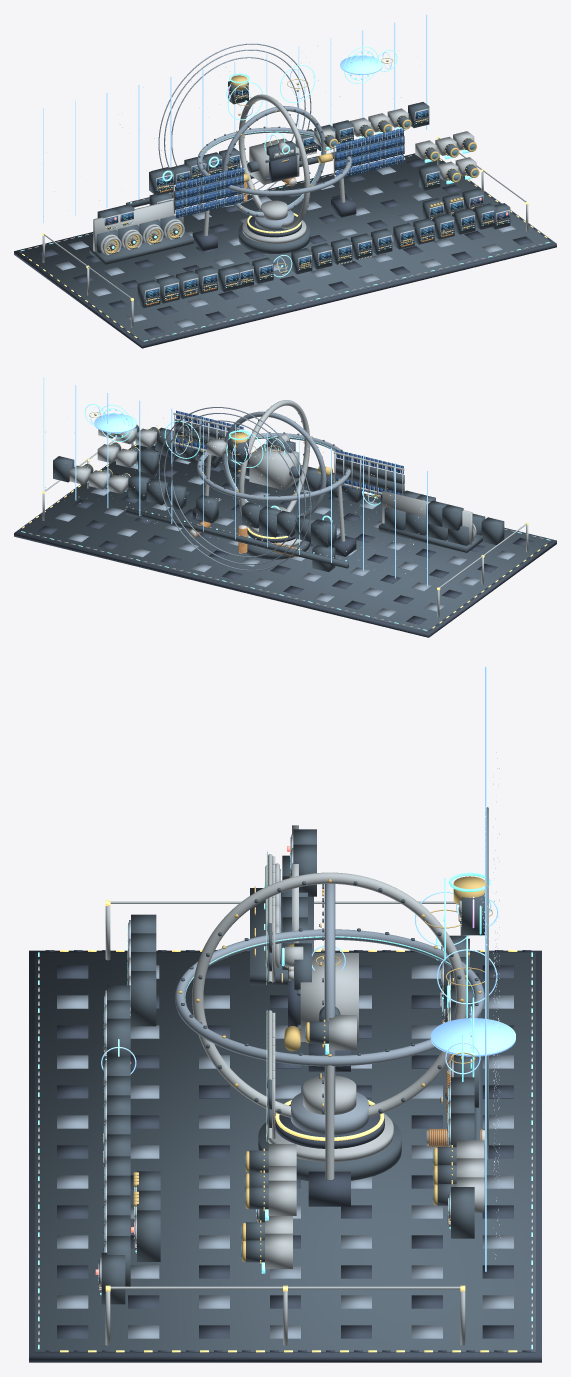
The model's file is Level84_Complete_ArtKit_Showcase.glb.
The picture shows the model from 3 angles, top to bottom: view 1: azimuth 30°, elevation 25°; view 2: azimuth 150°, elevation 25°; view 3: azimuth 270°, elevation 25°; orthographic projection. The views are drawn at different scales.
Visible parts, largest first — view 1: L84_CelestialDynamicsArenaBas_Part_0006, L84_CelestialDynamicsArenaBas_Part_0000, L84_PanoramicStarfieldSphere, L84_RotationalTestRigPedestal, L84_StarboardSolarArrayWing, L84_PortSolarArrayWing, L84_ReactionWheelClusterHousi_Part_0001, L84_ThreeAxisSpacecraftTestRi_Part_0005, L84_ThreeAxisSpacecraftTestRi_Part_0000, L84_CelestialDynamicsArenaBas_Part_0009, L84_ThreeAxisSpacecraftTestRi_Part_0010, L84_CelestialDynamicsArenaBas_Part_0007 (+19 smaller); view 2: L84_CelestialDynamicsArenaBas_Part_0006, L84_CelestialDynamicsArenaBas_Part_0000, L84_PanoramicStarfieldSphere, L84_PortSolarArrayWing, L84_SpacecraftAttitudeTestVeh_Part_0000, L84_OrbitalEphemerisDisplayRa_Part_0000, L84_StarboardSolarArrayWing, L84_ThreeAxisSpacecraftTestRi_Part_0000, L84_ThreeAxisSpacecraftTestRi_Part_0005, L84_CelestialDynamicsArenaBas_Part_0007, L84_ThreeAxisSpacecraftTestRi_Part_0010, L84_CelestialDynamicsArenaBas_Part_0009 (+39 smaller); view 3: L84_CelestialDynamicsArenaBas_Part_0006, L84_CelestialDynamicsArenaBas_Part_0000, L84_RotationalTestRigPedestal, L84_ThreeAxisSpacecraftTestRi_Part_0005, L84_ThreeAxisSpacecraftTestRi_Part_0000, L84_CelestialDynamicsArenaBas_Part_0009, L84_CelestialDynamicsArenaBas_Part_0002, L84_CelestialDynamicsArenaBas_Part_0008, L84_CelestialDynamicsArenaBas_Part_0001, L84_CelestialDynamicsArenaBas_Part_0007, L84_CelestialDynamicsArenaBas_Part_0023, L84_SpacecraftAttitudeTestVeh_Part_0000 (+23 smaller).
Boxes of the visible parts, left/top/right/bottom form: L84_CelestialDynamicsArenaBas_Part_0006: left=19, top=154, right=552, bottom=342; L84_CelestialDynamicsArenaBas_Part_0000: left=14, top=153, right=556, bottom=348; L84_PanoramicStarfieldSphere: left=40, top=14, right=427, bottom=223; L84_RotationalTestRigPedestal: left=238, top=200, right=310, bottom=253; L84_StarboardSolarArrayWing: left=318, top=128, right=405, bottom=177; L84_PortSolarArrayWing: left=173, top=167, right=249, bottom=218; L84_ReactionWheelClusterHousi_Part_0001: left=93, top=200, right=184, bottom=255; L84_ThreeAxisSpacecraftTestRi_Part_0005: left=238, top=94, right=310, bottom=228; L84_ThreeAxisSpacecraftTestRi_Part_0000: left=197, top=127, right=351, bottom=195; L84_CelestialDynamicsArenaBas_Part_0009: left=301, top=166, right=502, bottom=267; L84_ThreeAxisSpacecraftTestRi_Part_0010: left=222, top=106, right=326, bottom=217; L84_CelestialDynamicsArenaBas_Part_0007: left=55, top=241, right=256, bottom=327; L84_CelestialDynamicsArenaBas_Part_0006: left=18, top=445, right=552, bottom=632; L84_CelestialDynamicsArenaBas_Part_0000: left=14, top=444, right=556, bottom=637; L84_PanoramicStarfieldSphere: left=41, top=377, right=427, bottom=586; L84_PortSolarArrayWing: left=318, top=449, right=404, bottom=495; L84_SpacecraftAttitudeTestVeh_Part_0000: left=249, top=444, right=299, bottom=490; L84_OrbitalEphemerisDisplayRa_Part_0000: left=126, top=508, right=348, bottom=568; L84_StarboardSolarArrayWing: left=173, top=410, right=243, bottom=457; L84_ThreeAxisSpacecraftTestRi_Part_0000: left=197, top=433, right=350, bottom=501; L84_ThreeAxisSpacecraftTestRi_Part_0005: left=238, top=400, right=310, bottom=534; L84_CelestialDynamicsArenaBas_Part_0007: left=314, top=541, right=515, bottom=617; L84_ThreeAxisSpacecraftTestRi_Part_0010: left=222, top=411, right=326, bottom=517; L84_CelestialDynamicsArenaBas_Part_0009: left=68, top=458, right=269, bottom=557; L84_CelestialDynamicsArenaBas_Part_0006: left=35, top=952, right=535, bottom=1352; L84_CelestialDynamicsArenaBas_Part_0000: left=29, top=950, right=541, bottom=1362; L84_RotationalTestRigPedestal: left=258, top=1075, right=401, bottom=1180; L84_ThreeAxisSpacecraftTestRi_Part_0005: left=192, top=872, right=466, bottom=1117; L84_ThreeAxisSpacecraftTestRi_Part_0000: left=174, top=929, right=484, bottom=1066; L84_CelestialDynamicsArenaBas_Part_0009: left=57, top=1205, right=513, bottom=1308; L84_CelestialDynamicsArenaBas_Part_0002: left=57, top=1175, right=513, bottom=1308; L84_CelestialDynamicsArenaBas_Part_0008: left=57, top=1085, right=513, bottom=1188; L84_CelestialDynamicsArenaBas_Part_0001: left=57, top=1055, right=513, bottom=1188; L84_CelestialDynamicsArenaBas_Part_0007: left=57, top=965, right=513, bottom=1068; L84_CelestialDynamicsArenaBas_Part_0023: left=105, top=901, right=465, bottom=1345; L84_SpacecraftAttitudeTestVeh_Part_0000: left=300, top=953, right=358, bottom=1041.
Size of the model in its own units: 27 by 10.47 by 14.45.
